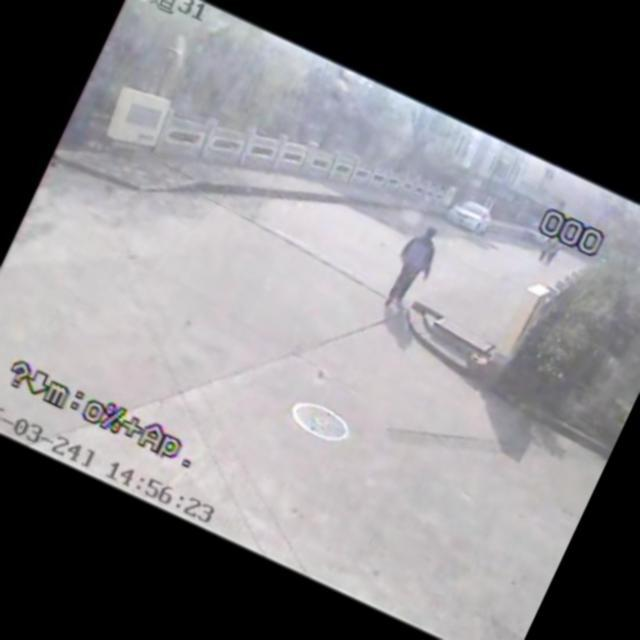person: (380, 216, 453, 313), (540, 238, 565, 272), (536, 236, 558, 262)
